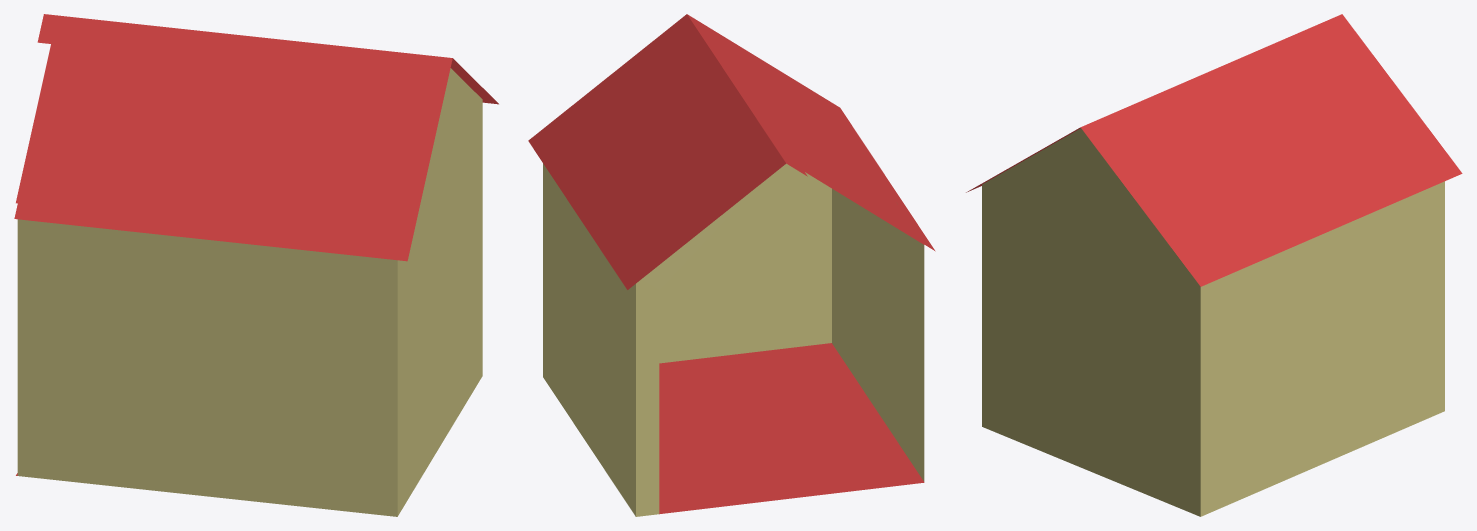
3 renders of one model, left to right at view 1: azimuth 30°, elevation 25°; view 2: azimuth 150°, elevation 25°; view 3: azimuth 270°, elevation 25°, orthographic. The views are drawn at different scales.
Bounding box in the file's own units: 19.72 × 20.11 × 15.47.
